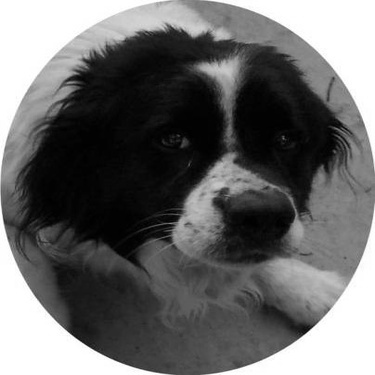dog: (1, 2, 355, 352)
